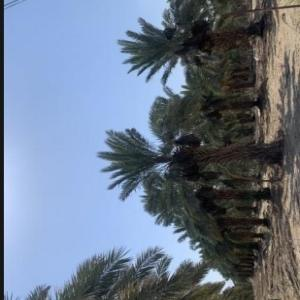palm tree: (96, 0, 299, 299)
